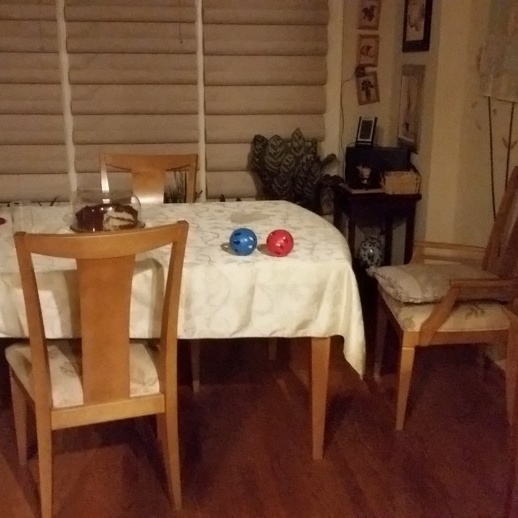ball: (264, 227, 296, 259), (228, 226, 258, 257)
